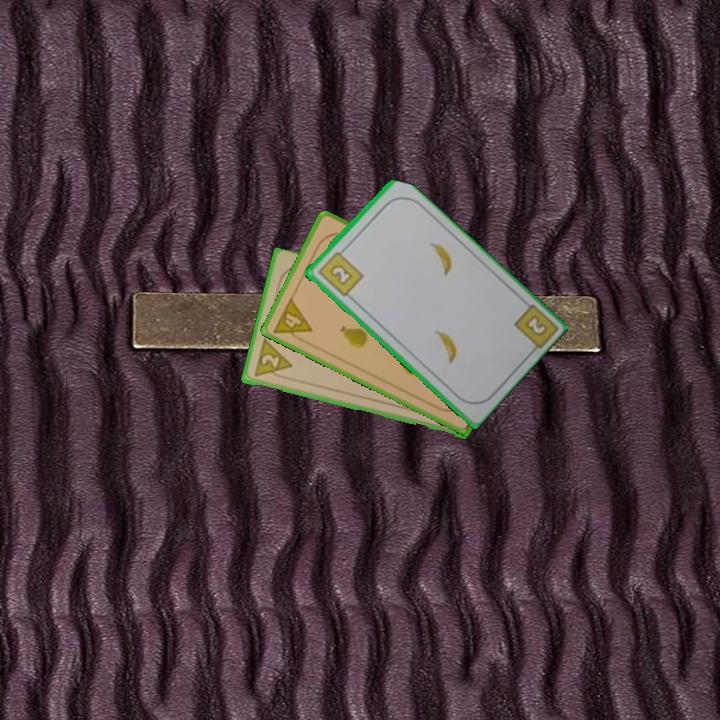2b: (314, 245, 366, 299), (521, 311, 550, 339)
2p: (250, 337, 295, 381)
4p: (269, 294, 315, 346)
